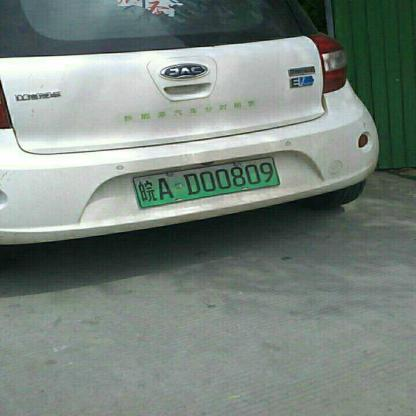lp: (132, 156, 282, 209)
